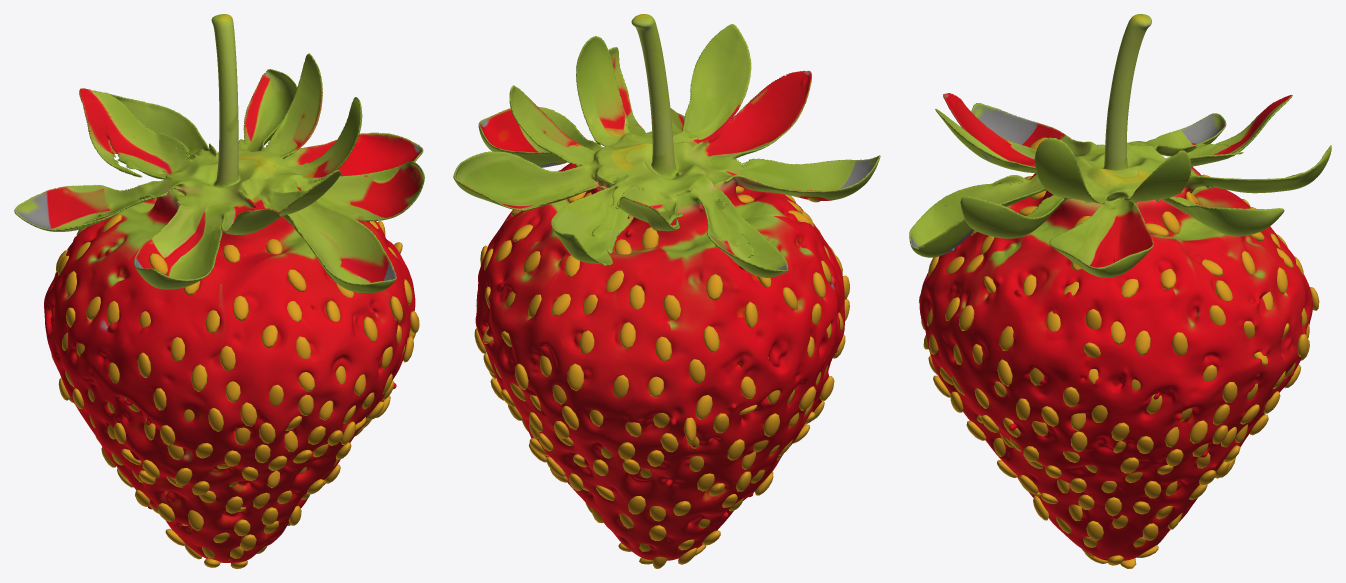
The model's file is strawberry-s2-oro.glb.
The picture shows the model from 3 angles, left to right: view 1: azimuth 30°, elevation 25°; view 2: azimuth 150°, elevation 25°; view 3: azimuth 270°, elevation 25°; orthographic projection. The views are drawn at different scales.
Parts seen in each view (by area): view 1: tripo_node_1f145cae-61f3-42c1-9906-b0e6cc88165a, semillas; view 2: tripo_node_1f145cae-61f3-42c1-9906-b0e6cc88165a, semillas; view 3: tripo_node_1f145cae-61f3-42c1-9906-b0e6cc88165a, semillas.
Part boxes in pixels (left/top/right/bottom): tripo_node_1f145cae-61f3-42c1-9906-b0e6cc88165a: left=14, top=14, right=424, bottom=562; semillas: left=50, top=214, right=419, bottom=568; tripo_node_1f145cae-61f3-42c1-9906-b0e6cc88165a: left=453, top=14, right=880, bottom=560; semillas: left=474, top=186, right=849, bottom=568; tripo_node_1f145cae-61f3-42c1-9906-b0e6cc88165a: left=909, top=14, right=1331, bottom=560; semillas: left=919, top=137, right=1319, bottom=568.
Size of the model in its own units: 0.6924 by 1.01 by 0.7052.
Materials: 2 (1 with a texture image).
